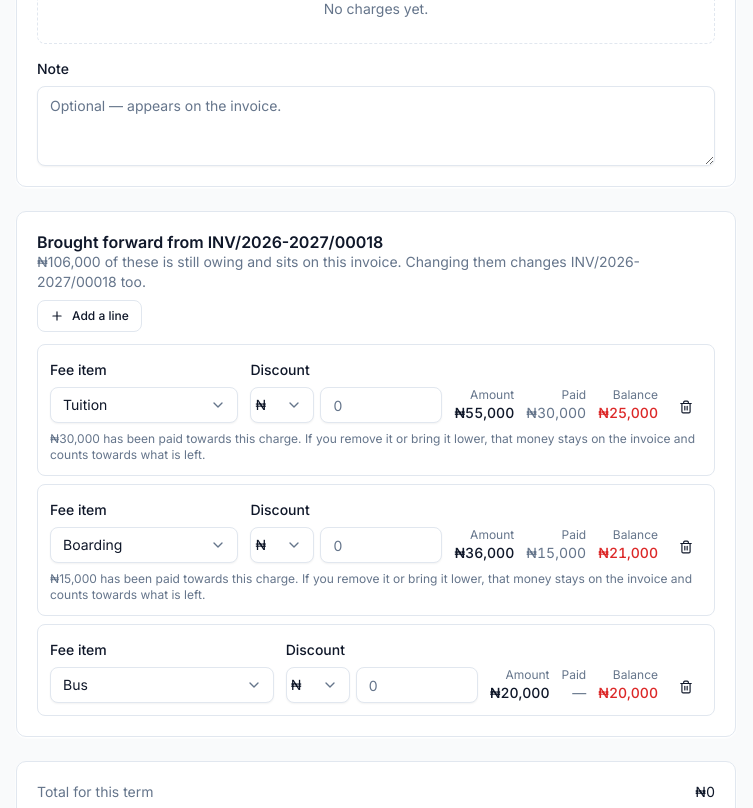
Test: InvoiceEditPage brought-forward items › updates the balance as an amount is changed, with the paid figure staying put
The image size is (753, 808).
(page scrolled)
Expected: the heading "Brought forward from INV/2026-2027/00018" is shown, [37,232,383,252]
Take 5,000 off Tuition (55,000 billed, 30,000 paid).
Type "5000" into the number field labelled "Discount" next to "₦55,000" at {"x": 381, "y": 405}, box [320,387,442,423]
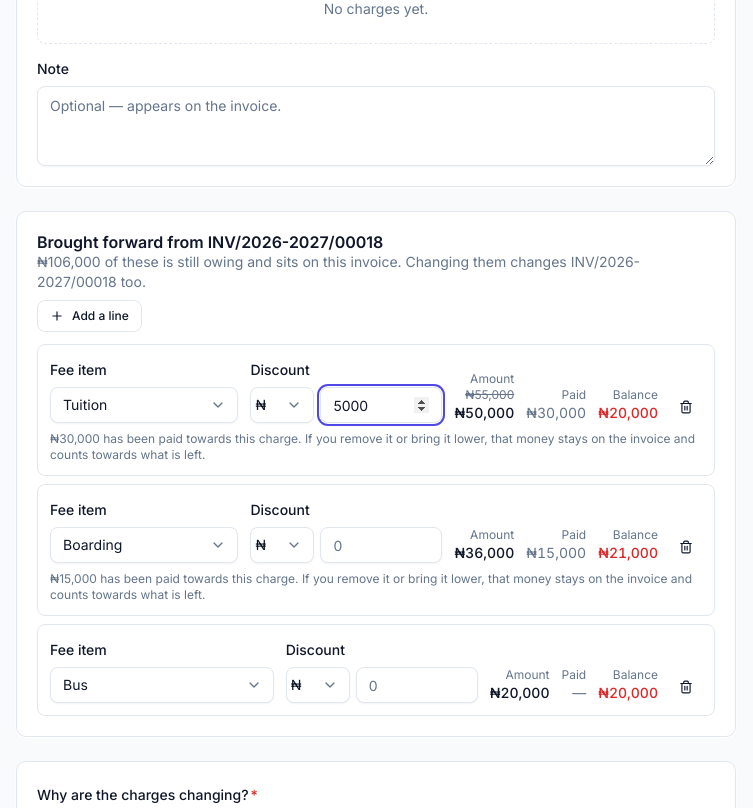
Expected: the element with test id "finance-invoice-edit-paid" shows "30,000", [526,404,586,421]
Result: the element with test id "finance-invoice-edit-balance" in the row of "₦55,000" shows "20,000" at [598,404,658,421]
